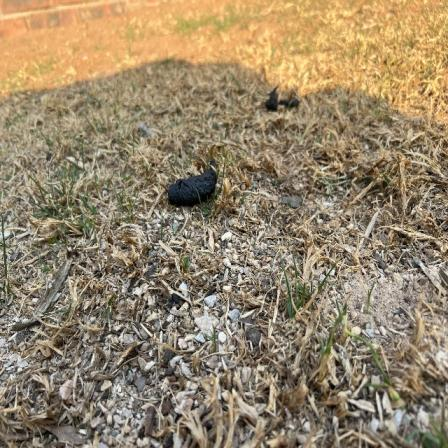dog-poop: (162, 163, 242, 208), (260, 88, 304, 120)
